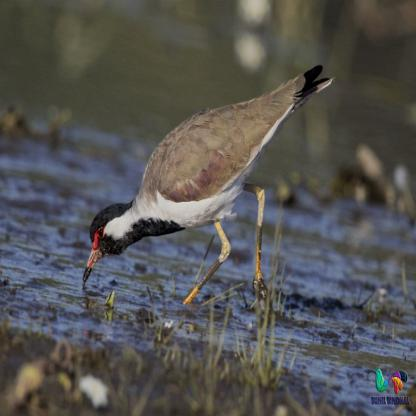Burung: (83, 64, 334, 304)
